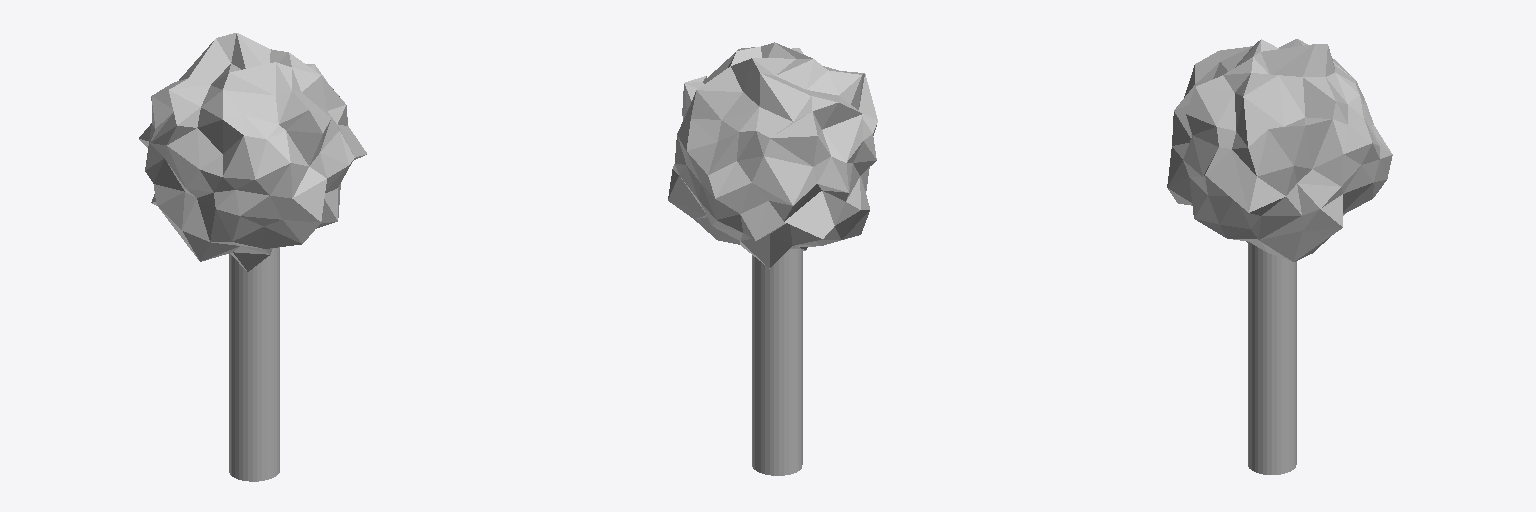
The model's file is tree.obj.
3 renders of one model, left to right at view 1: azimuth 30°, elevation 25°; view 2: azimuth 150°, elevation 25°; view 3: azimuth 270°, elevation 25°, orthographic.
Parts seen in each view (by area): view 1: Icosphere, Cylinder; view 2: Icosphere, Cylinder; view 3: Icosphere, Cylinder.
Boxes of the visible parts, <box> form: Icosphere: <box>139,33,366,271</box>; Cylinder: <box>229,247,279,481</box>; Icosphere: <box>668,42,877,268</box>; Cylinder: <box>752,249,802,475</box>; Icosphere: <box>1167,39,1392,261</box>; Cylinder: <box>1248,242,1296,474</box>.
Size of the model in its own units: 2.08 by 4.36 by 2.11.